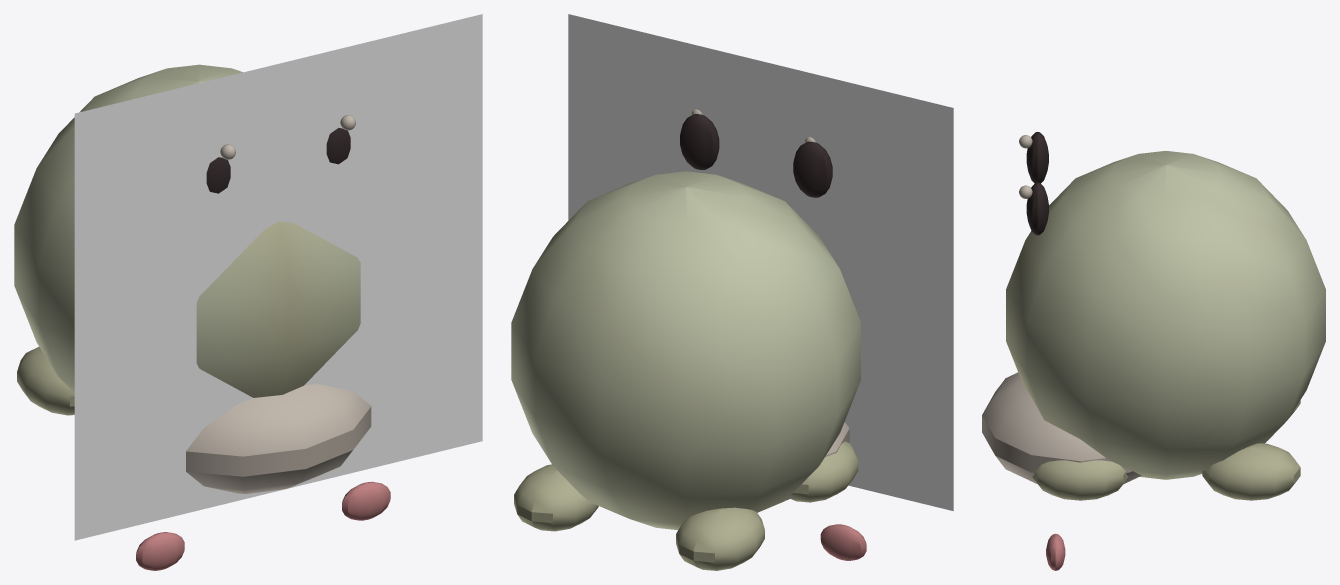
Rendered from p83fcb5ef.glb.
3 renders of one model, left to right at view 1: azimuth 30°, elevation 25°; view 2: azimuth 150°, elevation 25°; view 3: azimuth 270°, elevation 25°, orthographic. The views are drawn at different scales.
Visible parts, largest first — view 1: pet_p83fcb5ef; view 2: pet_p83fcb5ef; view 3: pet_p83fcb5ef.
Part boxes in pixels (<box>): pet_p83fcb5ef: <box>14,14,482,570</box>; pet_p83fcb5ef: <box>511,14,953,570</box>; pet_p83fcb5ef: <box>982,132,1325,570</box>.
Bounding box in the file's own units: 0.476 × 0.5482 × 0.4023.
